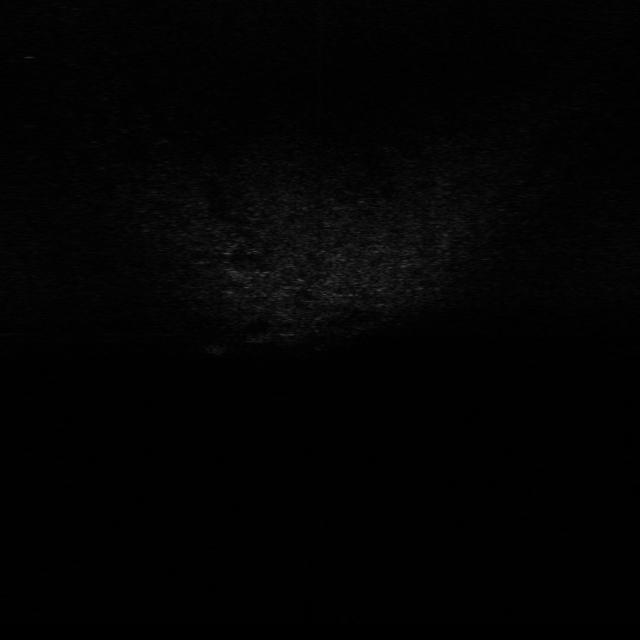cube: (204, 337, 233, 358)
